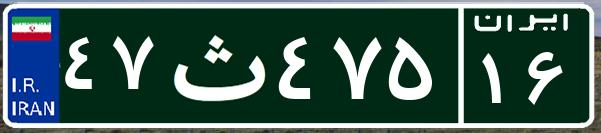1: (475, 38, 525, 113)
4: (273, 28, 330, 110), (57, 26, 110, 107)
5: (385, 28, 445, 110)
6: (525, 38, 570, 115)
7: (330, 28, 385, 110), (110, 28, 158, 105)
ث: (158, 15, 273, 115)
